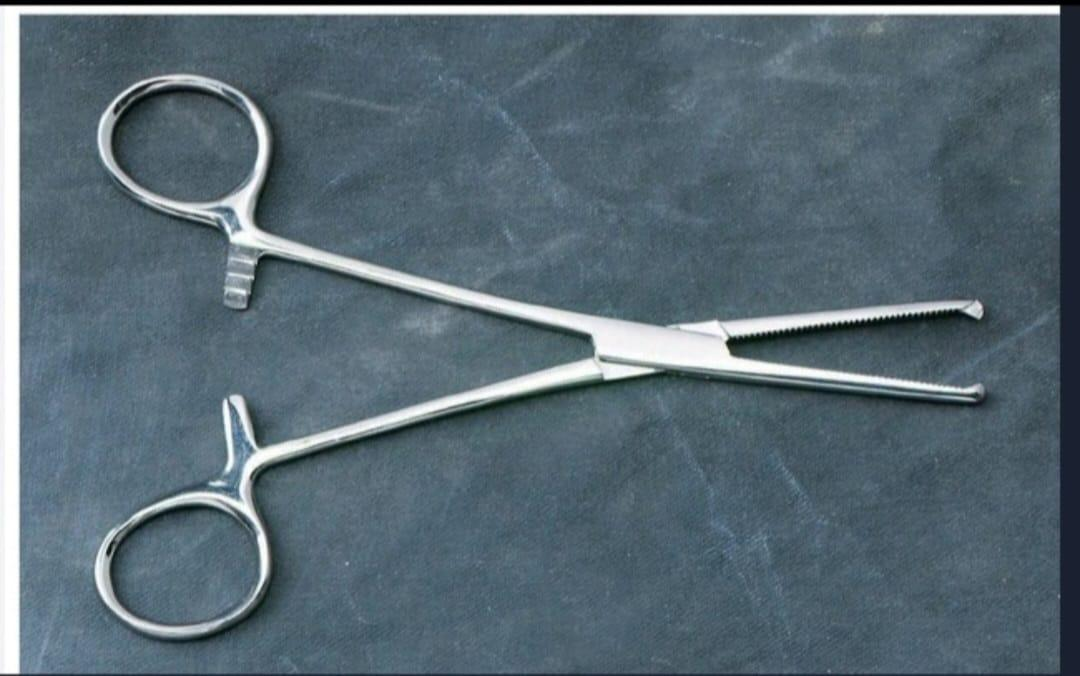Kocher Forceps: (83, 66, 1003, 641)
